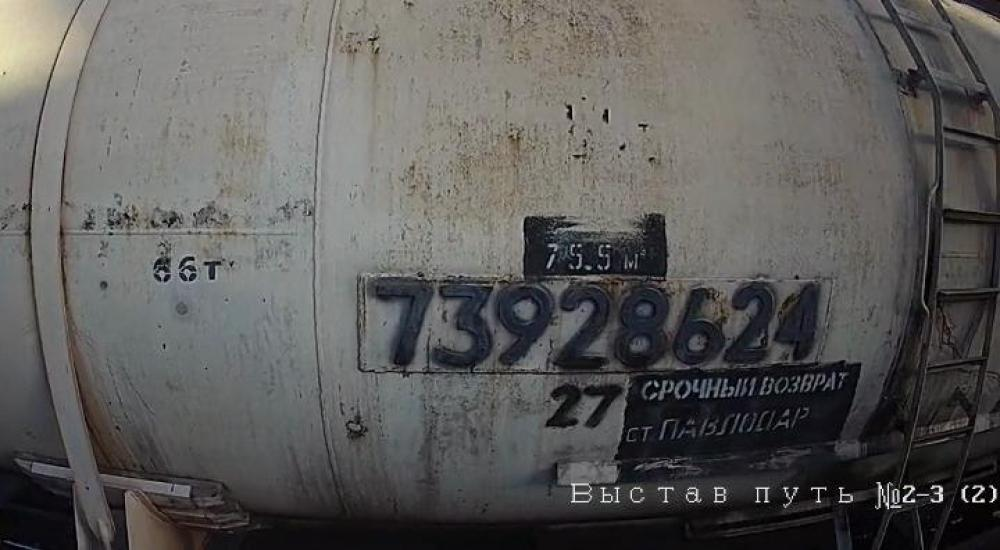Wagon-number: (361, 276, 828, 372)
